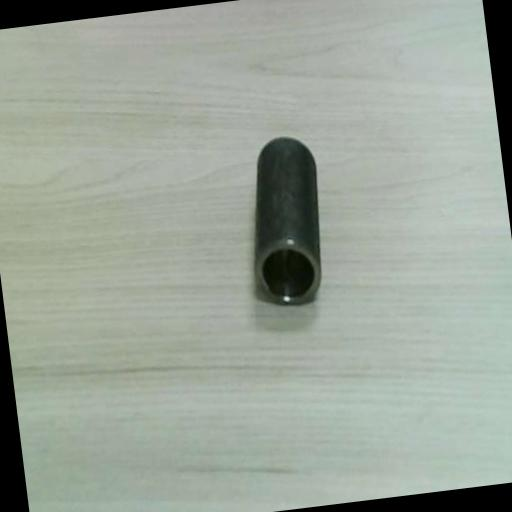peca: (254, 136, 321, 303)
